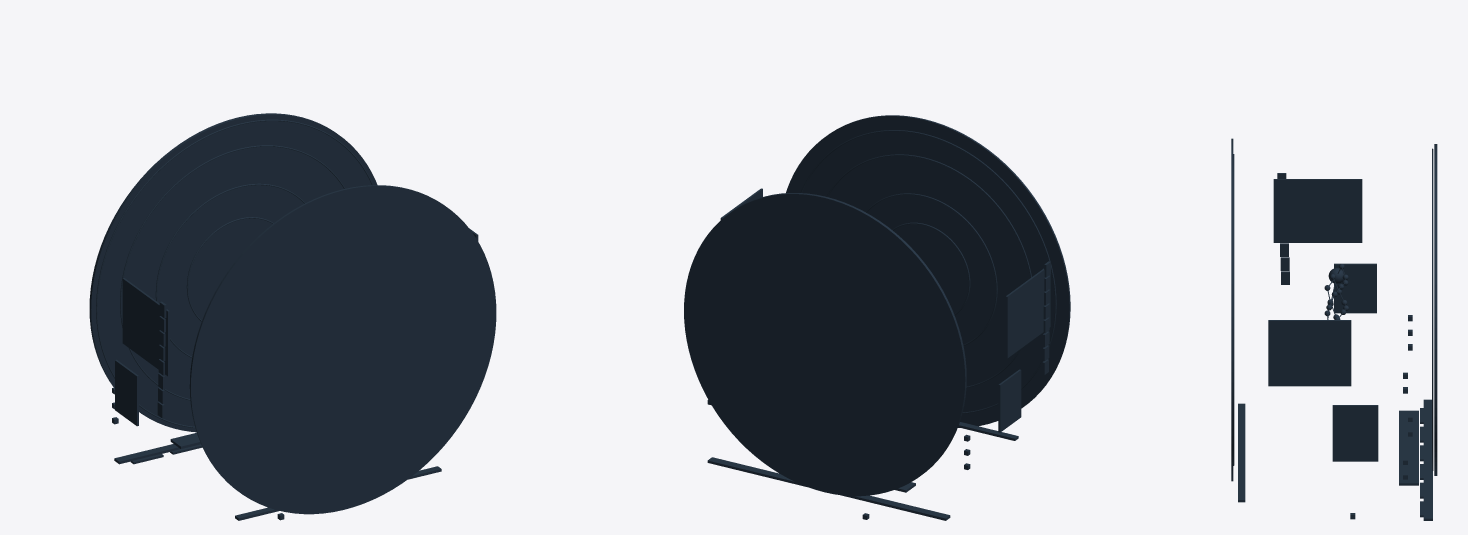
File: 08_simulation_theatre.glb
The picture shows the model from 3 angles, left to right: view 1: azimuth 30°, elevation 25°; view 2: azimuth 150°, elevation 25°; view 3: azimuth 270°, elevation 25°; orthographic projection. The views are drawn at different scales.
Parts seen in each view (by area): view 1: 08_simulation_theatre__ceiling_dark_disc, 08_simulation_theatre__circular_command_floor_black_chrome, 08_simulation_theatre__UI_left_primary_panel, 08_simulation_theatre__UI_left_secondary_panel, 08_simulation_theatre__floor_emissive_cyan_ring_radius_6.0, 08_simulation_theatre__floor_emissive_cyan_ring_radius_5.0; view 2: 08_simulation_theatre__circular_command_floor_black_chrome, 08_simulation_theatre__ceiling_dark_disc, 08_simulation_theatre__UI_left_primary_panel, 08_simulation_theatre__UI_bottom_active_context_rail, 08_simulation_theatre__UI_left_secondary_panel, 08_simulation_theatre__ceiling_light_ring_radius_5.8, 08_simulation_theatre__ceiling_light_ring_radius_4.8; view 3: 08_simulation_theatre__UI_left_primary_panel, 08_simulation_theatre__UI_right_primary_panel, 08_simulation_theatre__UI_right_secondary_panel, 08_simulation_theatre__UI_left_secondary_panel, 08_simulation_theatre__UI_bottom_command_dock, 08_simulation_theatre__circular_command_floor_black_chrome, 08_simulation_theatre__UI_bottom_active_context_rail, 08_simulation_theatre__ceiling_dark_disc, 08_simulation_theatre__UI_top_nav_holographic_rail, 08_simulation_theatre__floor_emissive_cyan_ring_radius_6.0, 08_simulation_theatre__ceiling_light_ring_radius_5.8.
Part boxes in pixels (bbox=[...]): 08_simulation_theatre__ceiling_dark_disc: bbox=[189, 185, 496, 514]; 08_simulation_theatre__circular_command_floor_black_chrome: bbox=[89, 113, 377, 432]; 08_simulation_theatre__UI_left_primary_panel: bbox=[122, 278, 169, 376]; 08_simulation_theatre__UI_left_secondary_panel: bbox=[115, 359, 138, 426]; 08_simulation_theatre__floor_emissive_cyan_ring_radius_6.0: bbox=[96, 119, 372, 427]; 08_simulation_theatre__floor_emissive_cyan_ring_radius_5.0: bbox=[120, 145, 345, 400]; 08_simulation_theatre__circular_command_floor_black_chrome: bbox=[684, 193, 966, 496]; 08_simulation_theatre__ceiling_dark_disc: bbox=[786, 115, 1070, 427]; 08_simulation_theatre__UI_left_primary_panel: bbox=[1005, 268, 1050, 358]; 08_simulation_theatre__UI_bottom_active_context_rail: bbox=[707, 457, 950, 520]; 08_simulation_theatre__UI_left_secondary_panel: bbox=[998, 369, 1021, 432]; 08_simulation_theatre__ceiling_light_ring_radius_5.8: bbox=[800, 130, 1056, 413]; 08_simulation_theatre__ceiling_light_ring_radius_4.8: bbox=[826, 154, 1031, 388]; 08_simulation_theatre__UI_left_primary_panel: bbox=[1273, 179, 1362, 242]; 08_simulation_theatre__UI_right_primary_panel: bbox=[1268, 320, 1351, 386]; 08_simulation_theatre__UI_right_secondary_panel: bbox=[1332, 405, 1378, 461]; 08_simulation_theatre__UI_left_secondary_panel: bbox=[1334, 263, 1376, 313]; 08_simulation_theatre__UI_bottom_command_dock: bbox=[1399, 410, 1418, 485]; 08_simulation_theatre__circular_command_floor_black_chrome: bbox=[1434, 144, 1437, 475]; 08_simulation_theatre__UI_bottom_active_context_rail: bbox=[1423, 399, 1432, 520]; 08_simulation_theatre__ceiling_dark_disc: bbox=[1231, 138, 1233, 481]; 08_simulation_theatre__UI_top_nav_holographic_rail: bbox=[1238, 403, 1245, 502]; 08_simulation_theatre__floor_emissive_cyan_ring_radius_6.0: bbox=[1432, 148, 1433, 471]; 08_simulation_theatre__ceiling_light_ring_radius_5.8: bbox=[1233, 154, 1234, 465].
Bounding box in the file's own units: 18 × 16.59 × 10.13.
